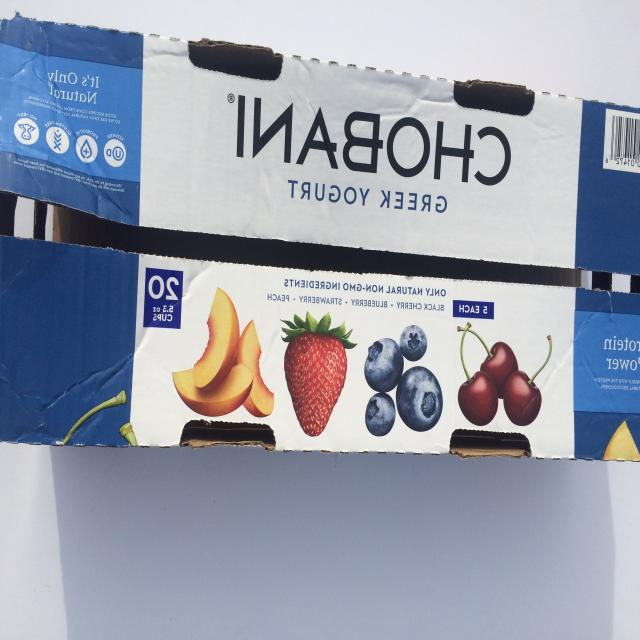cardboard: (0, 34, 640, 463)
